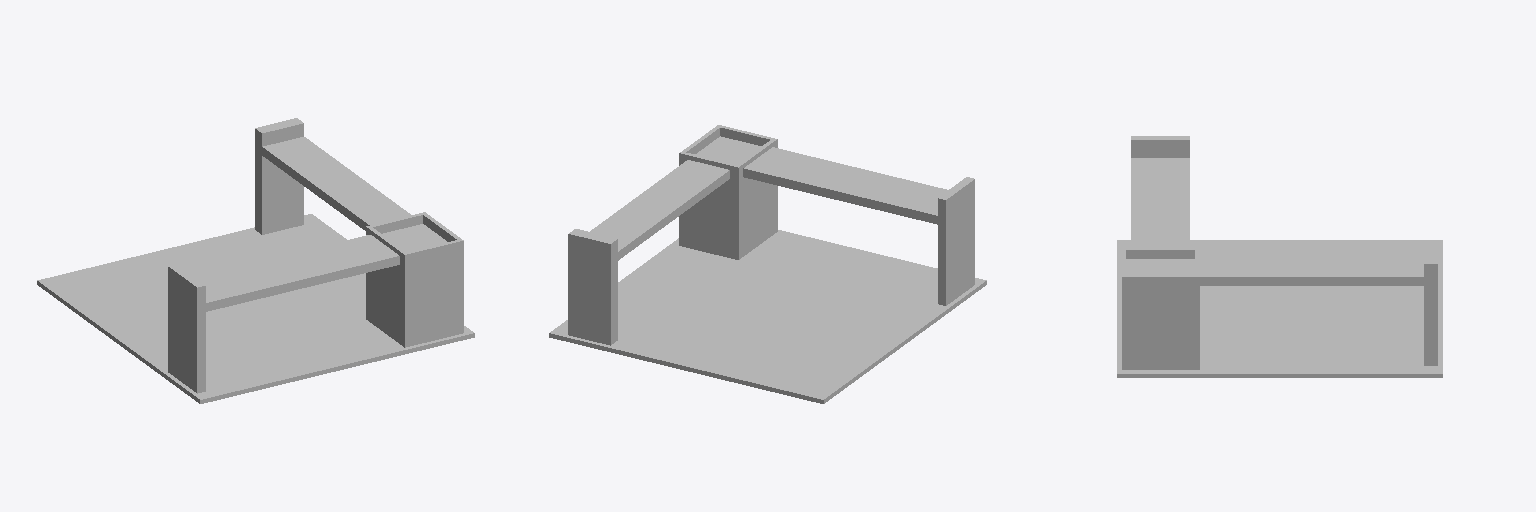
The model's file is Banco B.obj.
3 views of the same model, side by side, from view 1: azimuth 30°, elevation 25°; view 2: azimuth 150°, elevation 25°; view 3: azimuth 270°, elevation 25° (orthographic).
Parts seen in each view (by area): view 1: object 1; view 2: object 1; view 3: object 1.
Boxes of the visible parts, x1=… form: object 1: x1=37, y1=118, x2=474, y2=403; object 1: x1=549, y1=125, x2=986, y2=403; object 1: x1=1117, y1=136, x2=1442, y2=377.
Size of the model in its own units: 6.5 by 2.5 by 6.7.